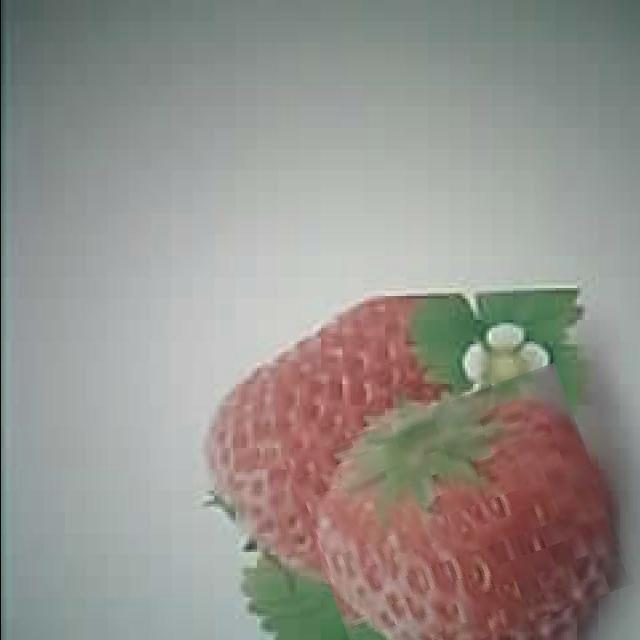strawberry: (298, 384, 618, 640)
